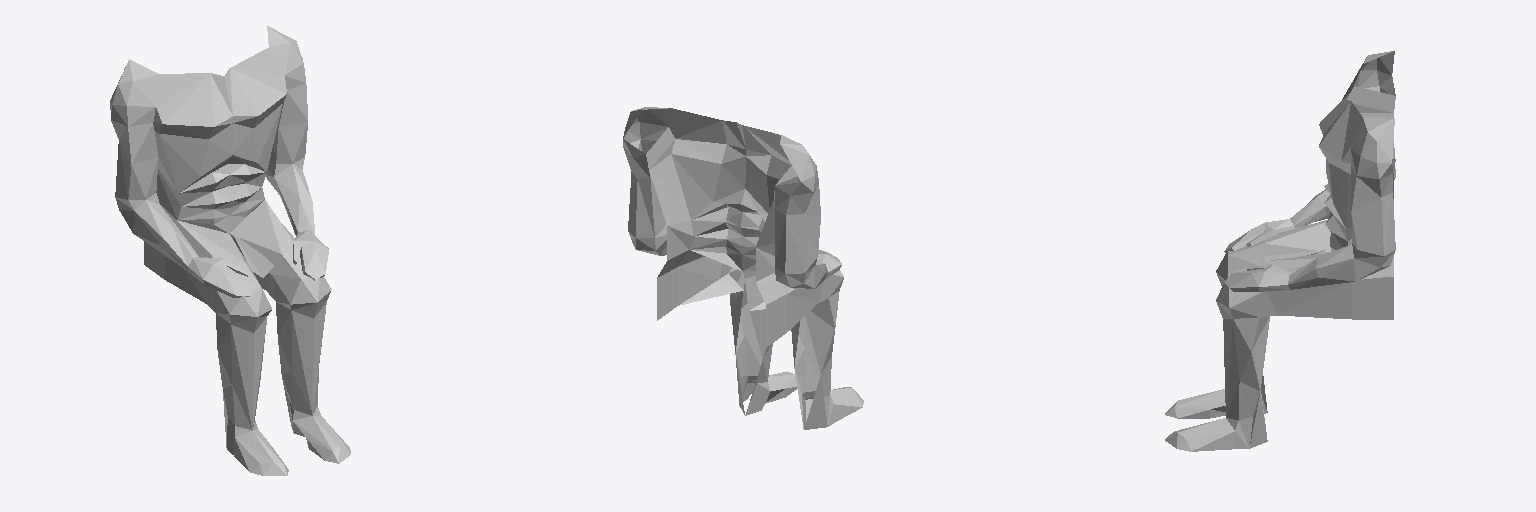
Rendered from body.obj.
3 renders of one model, left to right at view 1: azimuth 30°, elevation 25°; view 2: azimuth 150°, elevation 25°; view 3: azimuth 270°, elevation 25°, orthographic.
Visible parts, largest first — view 1: Group; view 2: Group; view 3: Group.
Part boxes in pixels (left/top/right/bottom): Group: left=110, top=26, right=350, bottom=475; Group: left=623, top=107, right=863, bottom=429; Group: left=1165, top=51, right=1395, bottom=451.
Bounding box in the file's own units: 102 × 176 × 108.